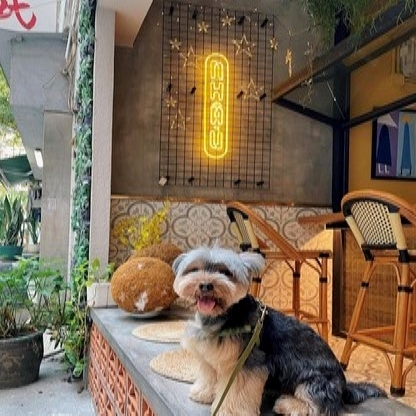yorkshire: (162, 245, 368, 416)
